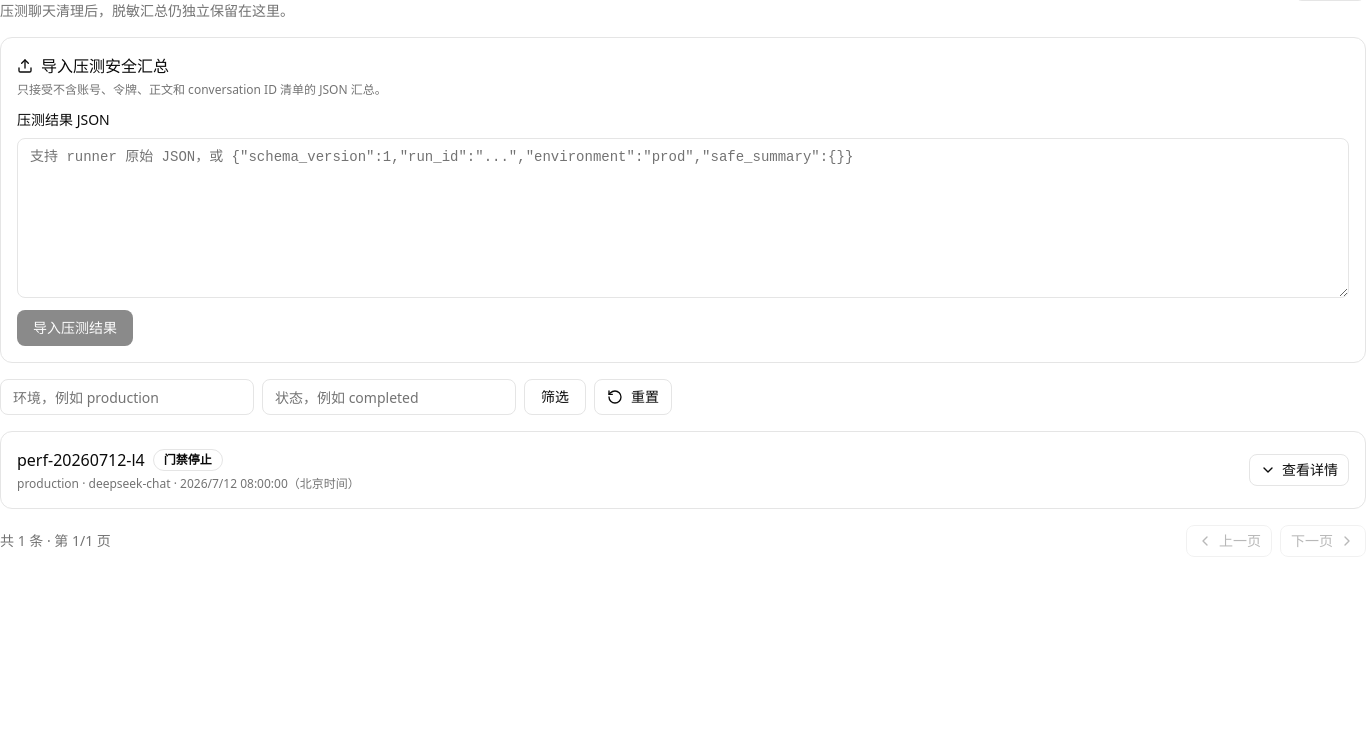
AdminPerformancePanel › 详情错误保持列表并支持独立重试
Expected: the text "perf-20260712-l4" is shown, [17, 448, 145, 472]
Click the button "查看详情". click: x=1299, y=470
box: [1249, 454, 1349, 486]
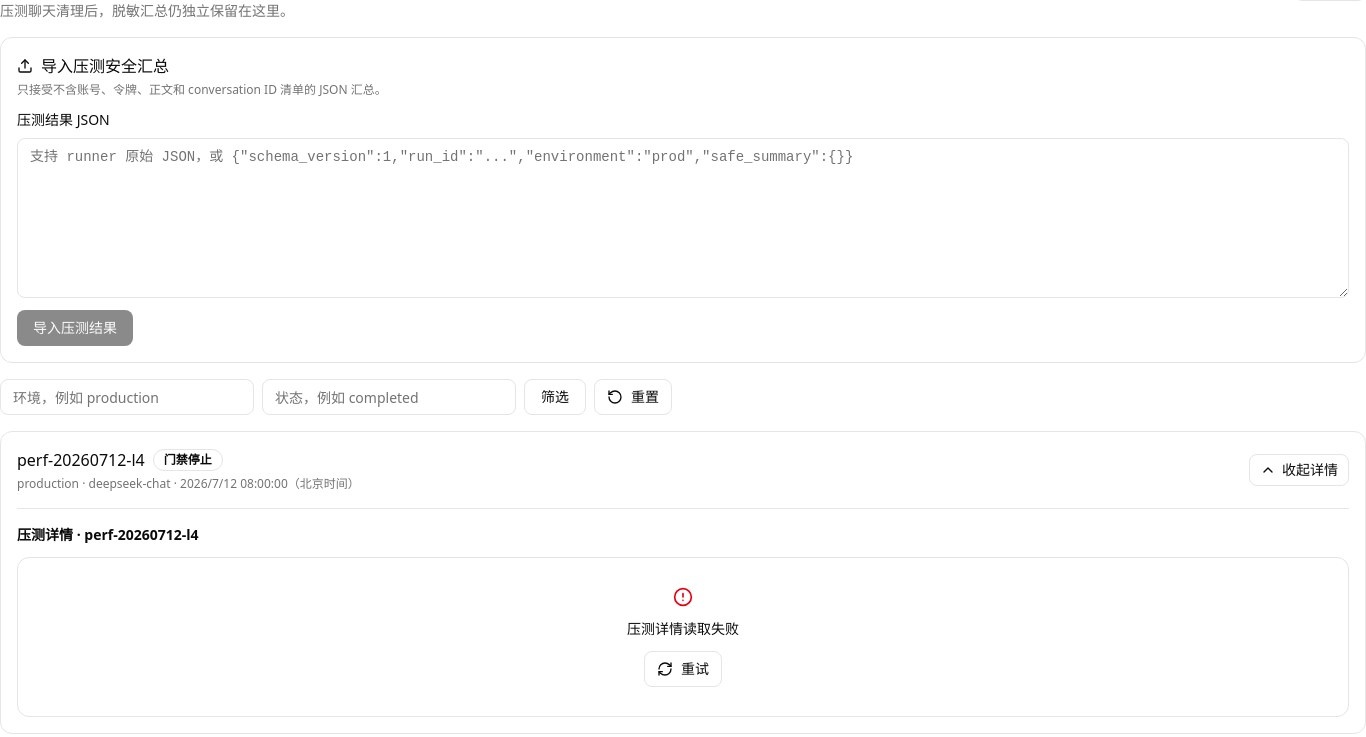
Expected: the text "perf-20260712-l4" is shown, [17, 448, 145, 472]
Expected: the text "压测详情读取失败" is shown, [627, 619, 739, 639]
Click the button with aria-label "重新加载详情". click: x=683, y=669
box: [644, 651, 722, 687]
(page scrolled)
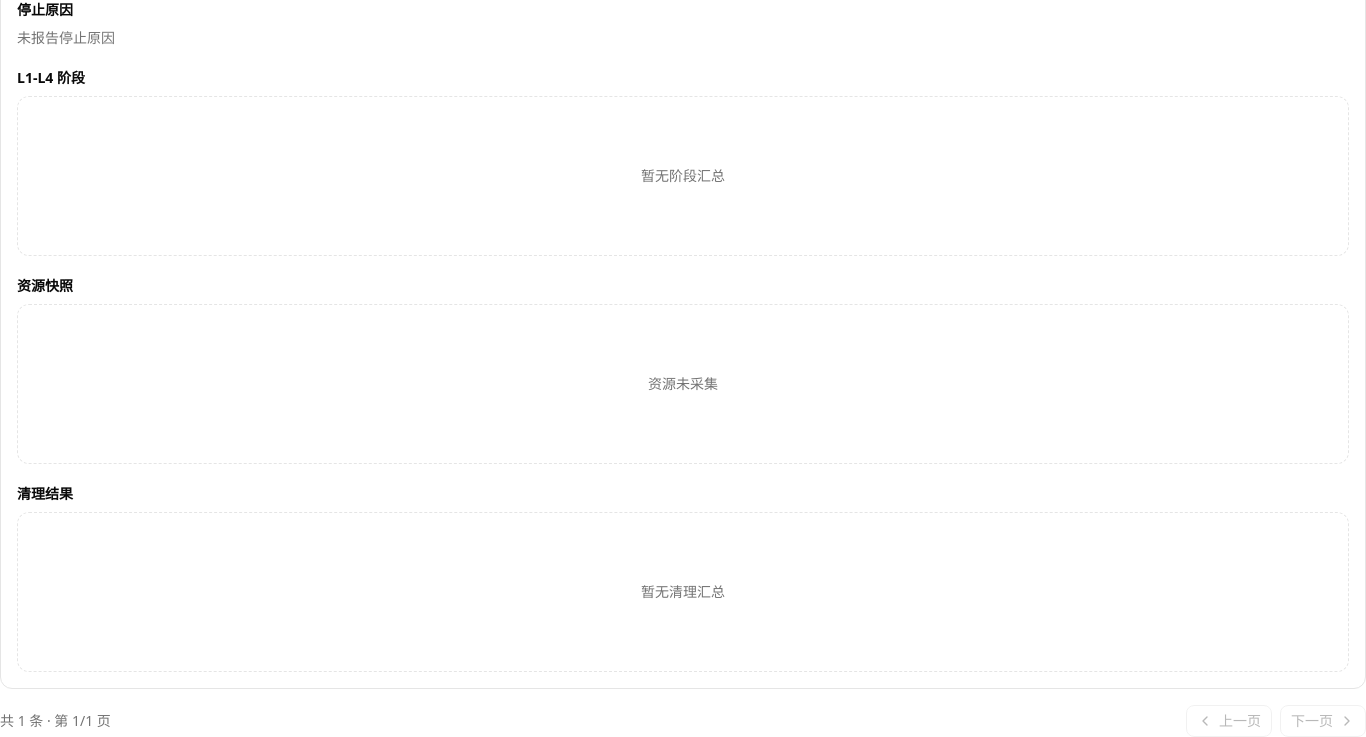
Expected: the text "暂无阶段汇总" is shown, [17, 96, 1349, 256]
Expected: the text "资源未采集" is shown, [17, 304, 1349, 464]
